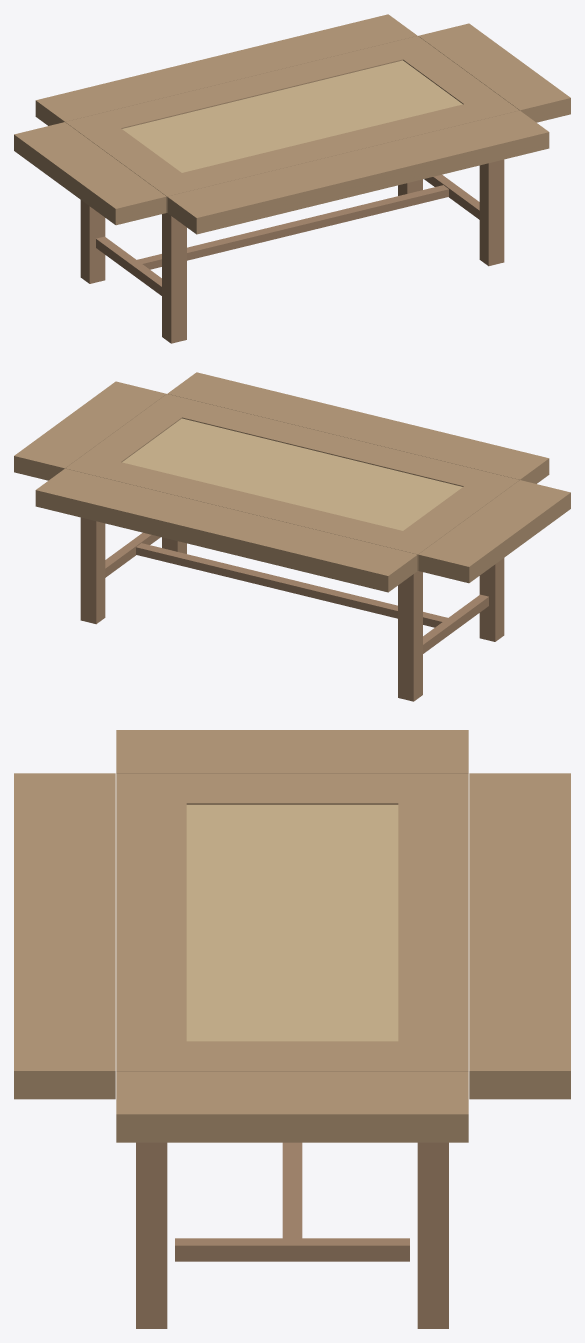
3 views of the same model, one above another, from view 1: azimuth 30°, elevation 25°; view 2: azimuth 150°, elevation 25°; view 3: azimuth 270°, elevation 25° (orthographic). The views are drawn at different scales.
Visible parts, largest first — view 1: TopRim, TopInset, LeafSouth, LeafNorth, Legs, LeafWest, LeafEast, Stretchers; view 2: TopRim, TopInset, LeafNorth, LeafSouth, Legs, LeafWest, LeafEast, Stretchers; view 3: TopRim, TopInset, LeafSouth, LeafNorth, LeafEast, LeafWest, Legs, Stretchers.
Boxes of the visible parts, x1,y1,x2,y2 form: TopRim: (65, 36, 519, 212); TopInset: (122, 60, 462, 172); LeafSouth: (167, 110, 549, 234); LeafNorth: (35, 14, 417, 125); Legs: (80, 159, 504, 343); LeafWest: (14, 122, 166, 225); LeafEast: (418, 23, 570, 122); Stretchers: (96, 174, 479, 295); TopRim: (65, 394, 519, 570); TopInset: (122, 418, 462, 530); LeafNorth: (35, 468, 417, 592); LeafSouth: (167, 372, 549, 483); Legs: (80, 517, 504, 701); LeafWest: (418, 480, 570, 583); LeafEast: (14, 381, 166, 480); Stretchers: (105, 532, 488, 653); TopRim: (116, 773, 468, 1071); TopInset: (186, 805, 398, 1041); LeafSouth: (14, 773, 115, 1099); LeafNorth: (469, 773, 570, 1099); LeafEast: (116, 1071, 468, 1142); LeafWest: (116, 730, 468, 773); Legs: (136, 1142, 448, 1328); Stretchers: (175, 1142, 409, 1261).
Bounding box in the file's own units: 2.32 × 0.75 × 1.42.
